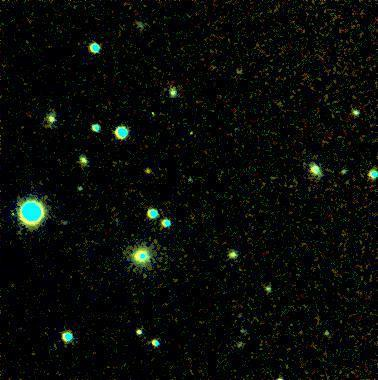star: (132, 157, 162, 187)
